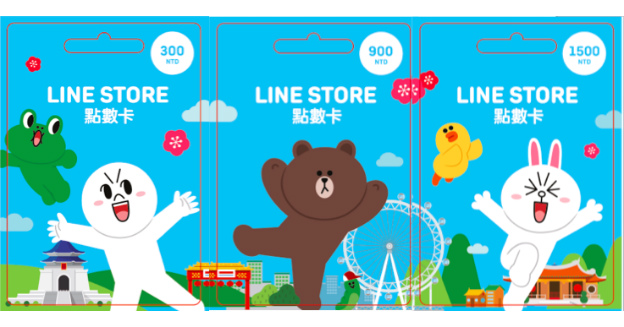line_brown: (280, 131, 371, 221)
